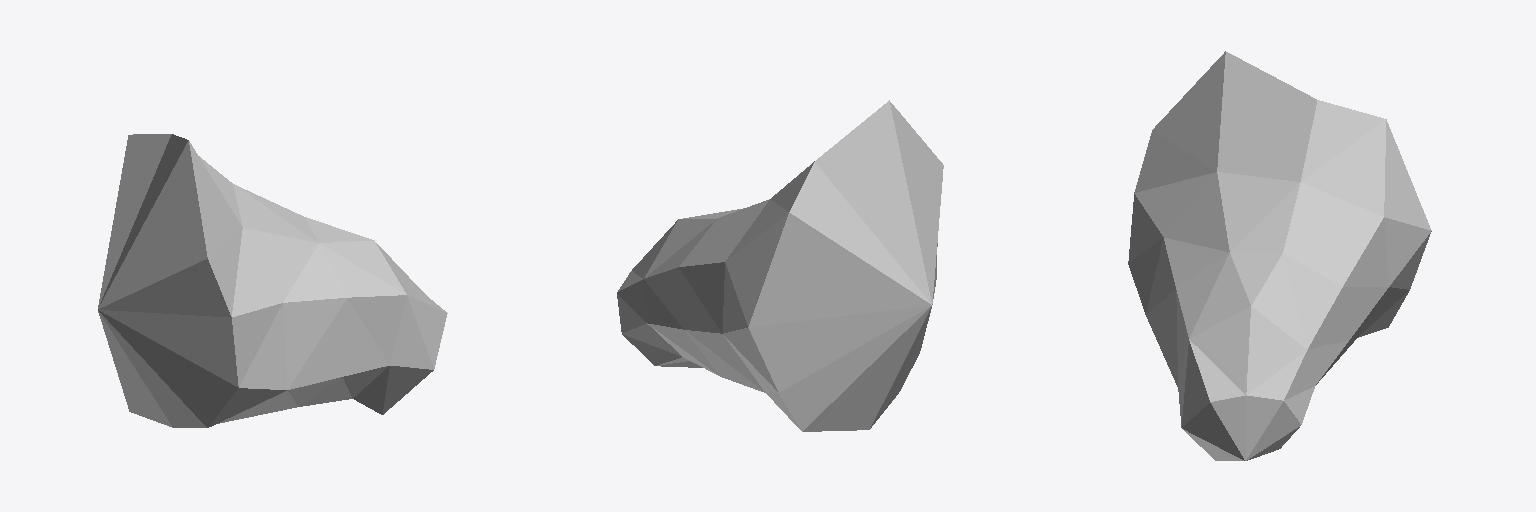
The model's file is bossLArmTop.obj.
3 renders of one model, left to right at view 1: azimuth 30°, elevation 25°; view 2: azimuth 150°, elevation 25°; view 3: azimuth 270°, elevation 25°, orthographic.
Visible parts, largest first — view 1: bossLArmTop; view 2: bossLArmTop; view 3: bossLArmTop.
Boxes of the visible parts, box(x1,y1,x2,y2) form: bossLArmTop: box(98, 134, 447, 427); bossLArmTop: box(617, 100, 943, 431); bossLArmTop: box(1128, 51, 1431, 460).
Bounding box in the file's own units: 197 × 185 × 160.